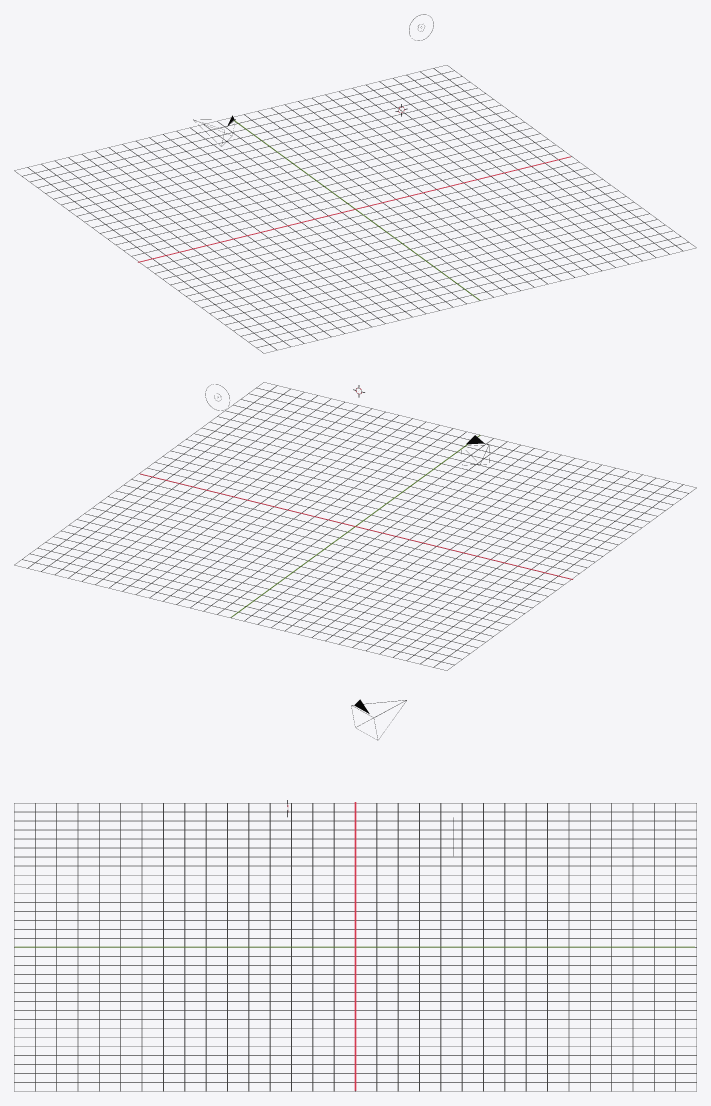
The model's file is monitor.glb.
3 renders of one model, top to bottom at view 1: azimuth 30°, elevation 25°; view 2: azimuth 150°, elevation 25°; view 3: azimuth 270°, elevation 25°, orthographic. The views are drawn at different scales.
Parts seen in each view (by area): view 1: Plane.006; view 2: Plane.006; view 3: Plane.006.
Part boxes in pixels (x1,y1,x2,y2): Plane.006: (14, 14, 696, 353); Plane.006: (14, 382, 696, 670); Plane.006: (14, 699, 696, 1091).
Bounding box in the file's own units: 3.48 × 1.1 × 3.47.
